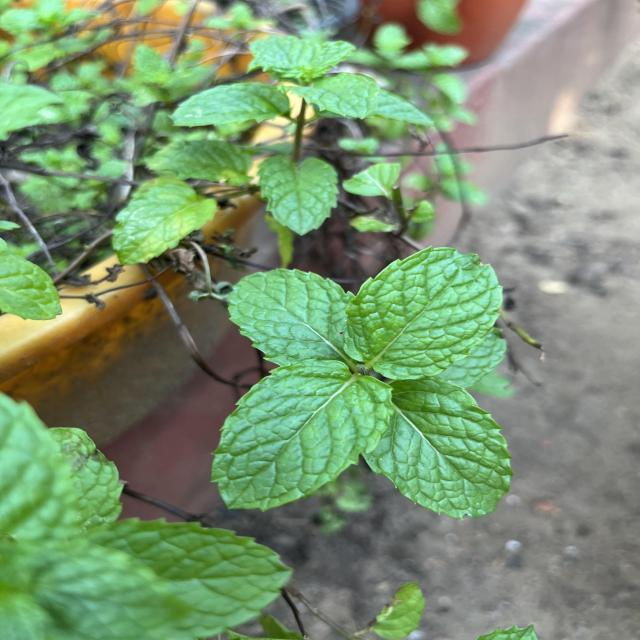Mentha spicata: (208, 358, 394, 514), (357, 378, 516, 521), (342, 245, 504, 382), (224, 266, 356, 366), (256, 154, 342, 237)
